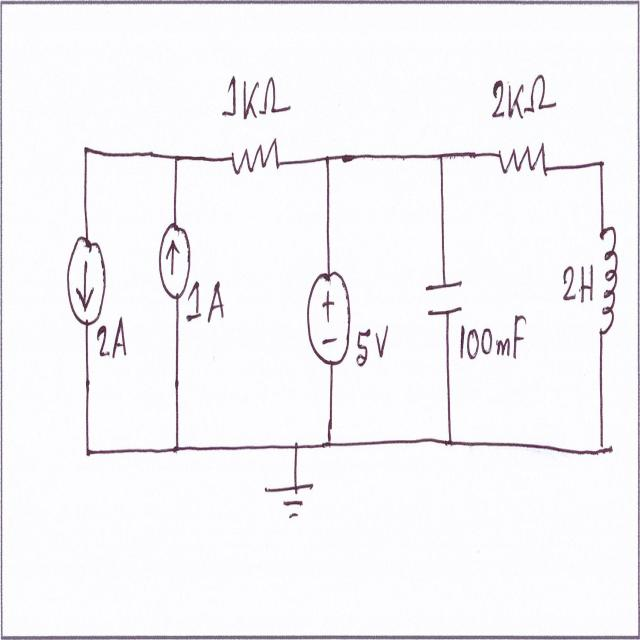capacitor: (421, 271, 466, 326)
current_source: (64, 234, 110, 330), (154, 216, 196, 313)
ground: (260, 477, 320, 533)
inductor: (592, 216, 621, 355)
resistor: (485, 140, 552, 185), (224, 137, 286, 185)
voltage_source: (304, 267, 352, 370)
